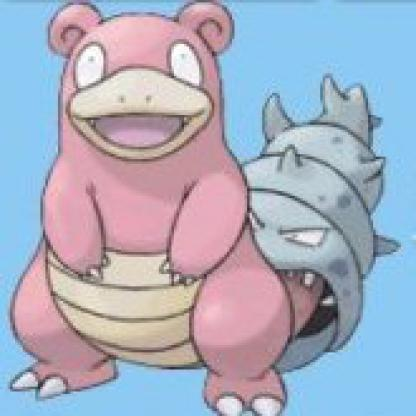Slowbro: (24, 1, 415, 415)
